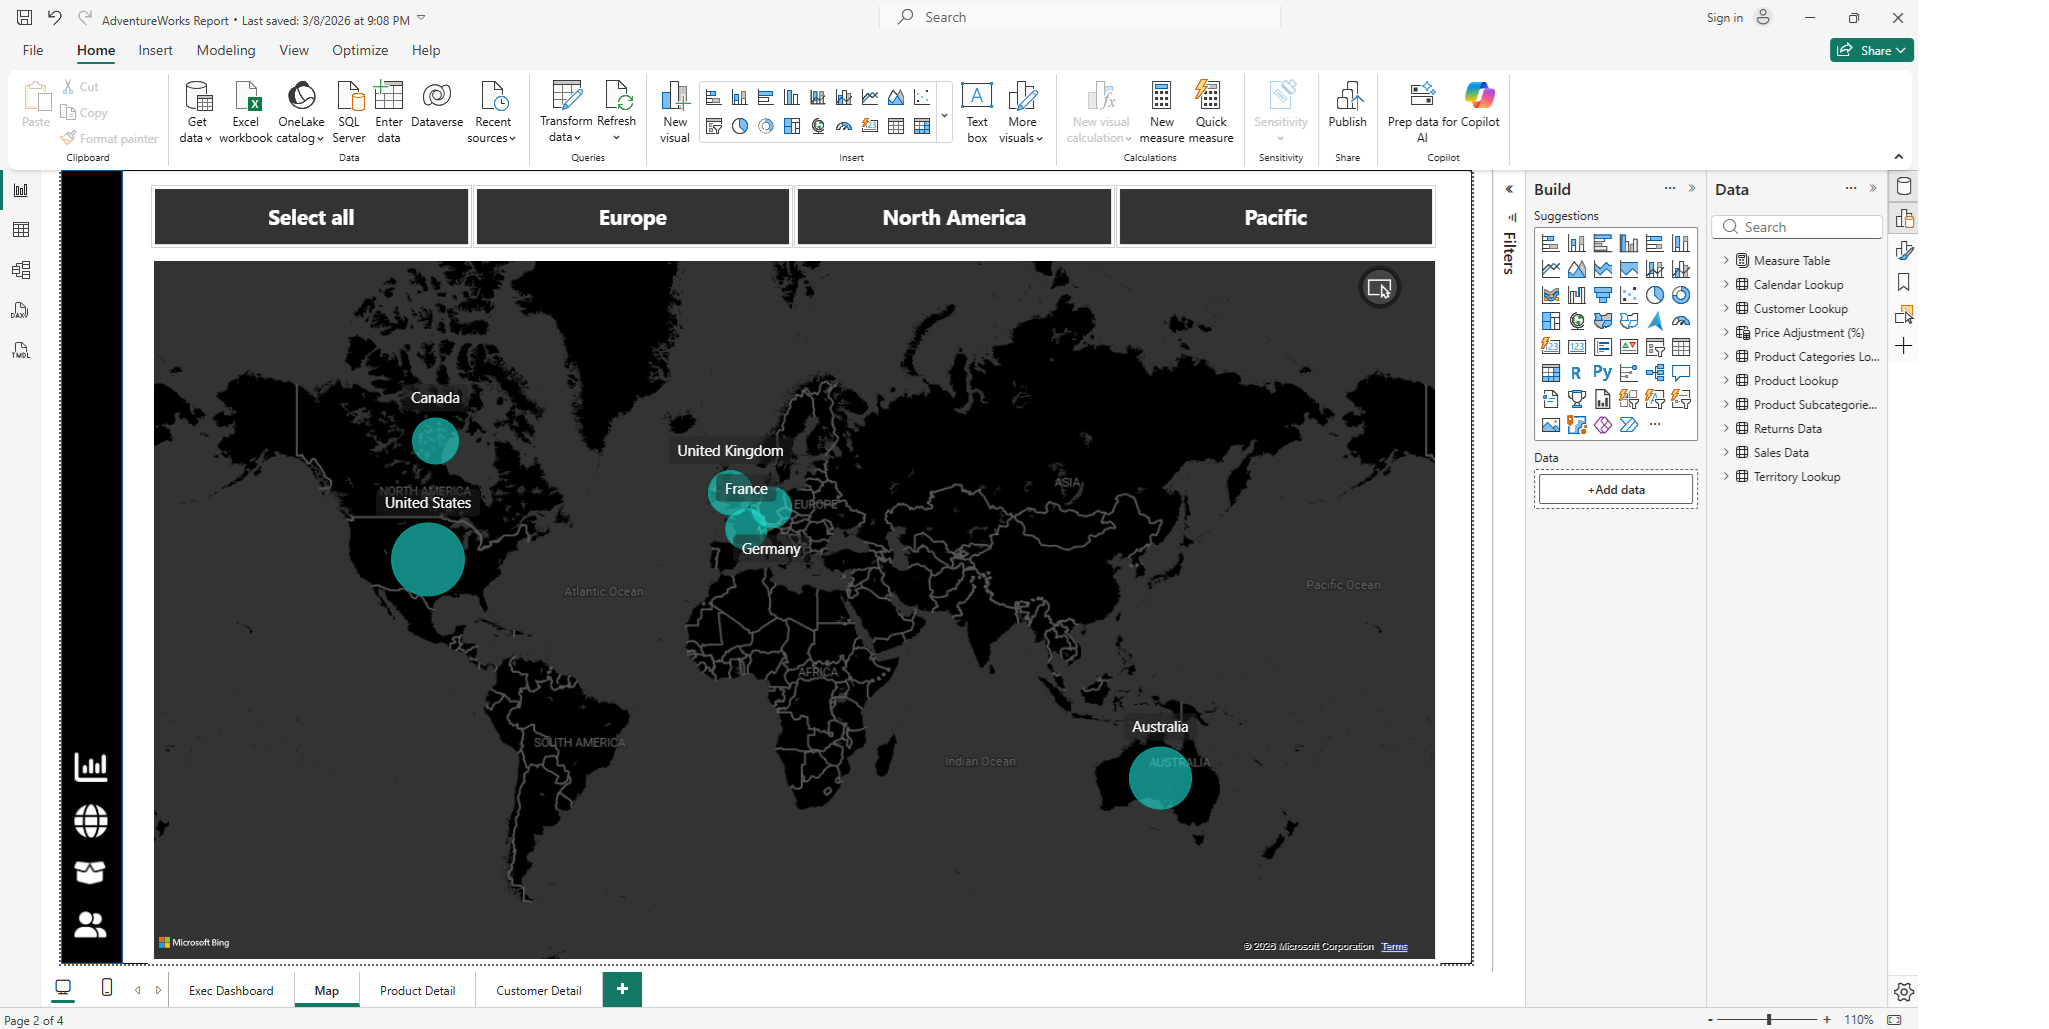

This screenshot's page, from the dashboard's own definition file:
{"tool":"powerbi","page":{"name":"Map","canvas":[1280,720],"ordinal":1},"visuals":[{"type":"shape","box":[0,0,56,720],"z":0},{"type":"actionButton","box":[8.3,521.2,38.3,39.5],"z":0,"group":"g1"},{"type":"map","fields":{"Category":["Territory Lookup.Country"],"Size":["Measure Table.Total Orders"]},"box":[79,77,1172,643],"z":1000},{"type":"actionButton","box":[8.3,570.8,38.3,38.3],"z":1000,"group":"g1"},{"type":"slicer","fields":{"Values":["Territory Lookup.Continent"]},"box":[56,7,1214,70],"z":2000},{"type":"actionButton","box":[8.3,619.2,38.3,36],"z":2000,"group":"g1"},{"type":"group","id":"g1","title":"Navigation buttons","box":[8.3,521.2,37.5,180.7],"z":3000},{"type":"actionButton","box":[8.3,665.1,38.3,37.2],"z":3000,"group":"g1"}]}

Visuals, with their boxes on the page's 1280x720 design canvas (x1, y1, x2, y2). These are canvas units, not pixel positions in the 2049x1029 screenshot, which may show the page scaled, cropped or inside an application window:
shape: 0, 0, 56, 720
actionButton: 8, 521, 47, 561
map - Territory Lookup.Country x Measure Table.Total Orders: 79, 77, 1251, 720
actionButton: 8, 571, 47, 609
slicer - Territory Lookup.Continent: 56, 7, 1270, 77
actionButton: 8, 619, 47, 655
"Navigation buttons" group: 8, 521, 46, 702
actionButton: 8, 665, 47, 702
